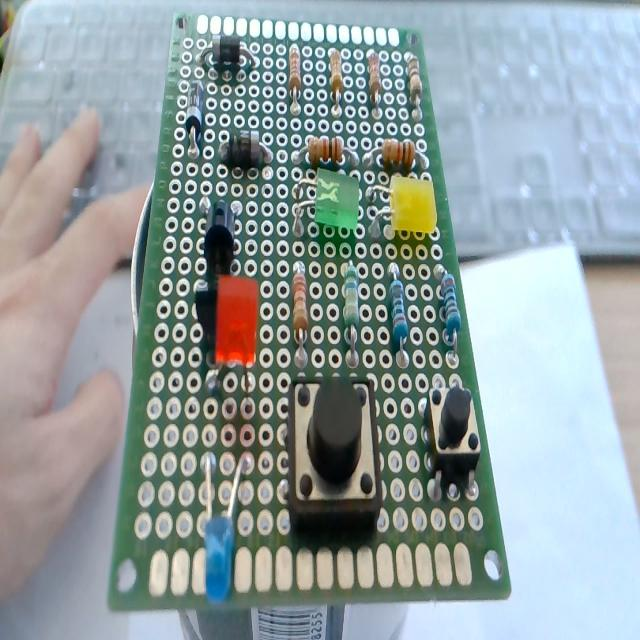diode: (212, 118, 276, 175), (194, 31, 262, 78), (183, 69, 208, 179)
led: (198, 430, 252, 616), (215, 272, 265, 415), (286, 169, 362, 243), (366, 176, 446, 244)
resistor: (424, 252, 468, 374), (378, 250, 412, 380), (338, 252, 368, 374), (289, 127, 362, 173), (287, 257, 315, 371), (398, 35, 432, 128), (362, 138, 432, 172), (285, 31, 311, 121), (367, 33, 385, 121), (326, 40, 344, 126)
switch: (284, 374, 389, 548), (415, 376, 485, 496)
transistor: (189, 184, 250, 268)
